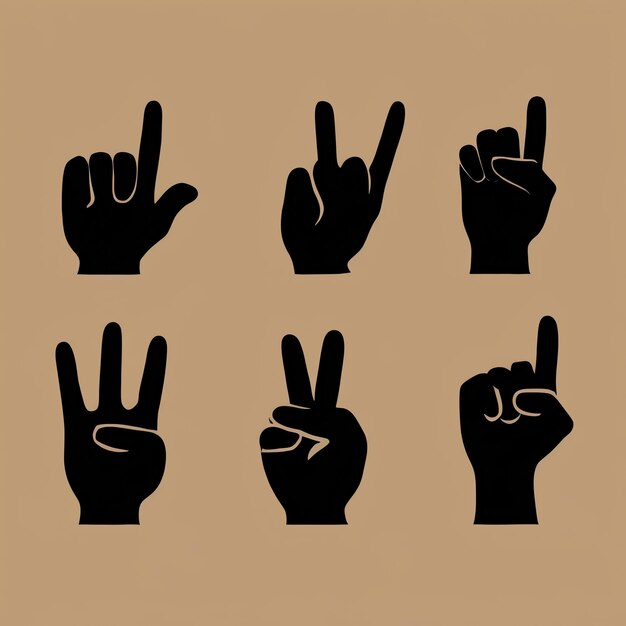D: (414, 306, 605, 554)
L: (29, 76, 208, 313)
V: (227, 320, 399, 559)
W: (30, 320, 208, 552)
